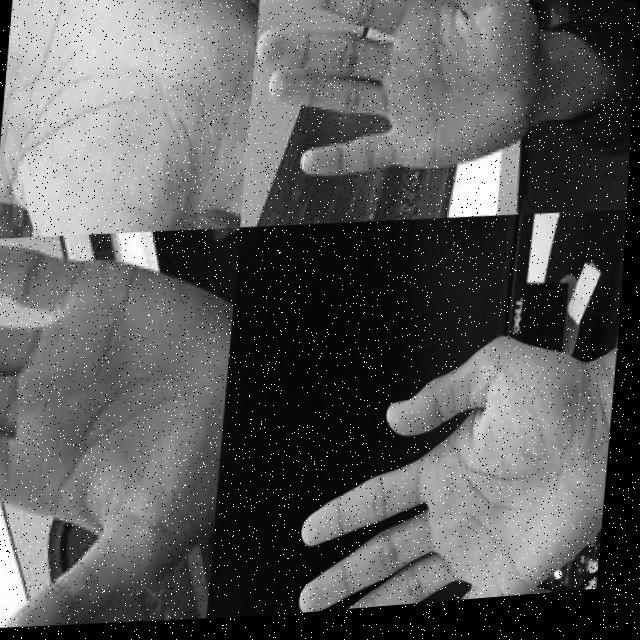no-gloves: (0, 228, 241, 637), (296, 329, 623, 619), (0, 0, 260, 248), (245, 0, 551, 196)
